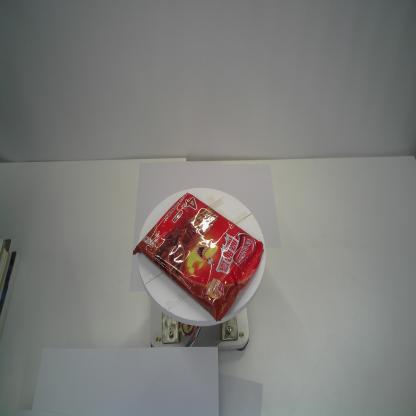Dessert: (132, 192, 264, 323)
